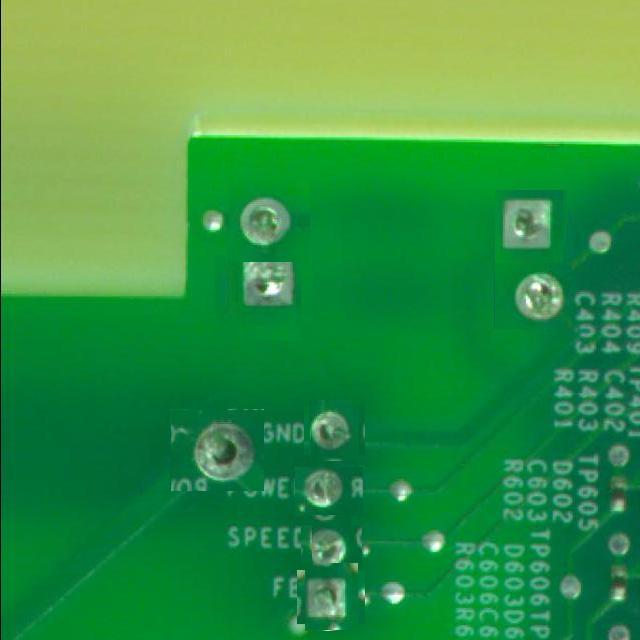lack_of_part: (170, 409, 264, 491), (222, 250, 308, 336), (230, 179, 312, 262), (493, 192, 570, 269), (494, 262, 572, 329), (301, 566, 362, 628), (295, 467, 363, 516), (307, 403, 362, 458), (306, 520, 356, 570)
